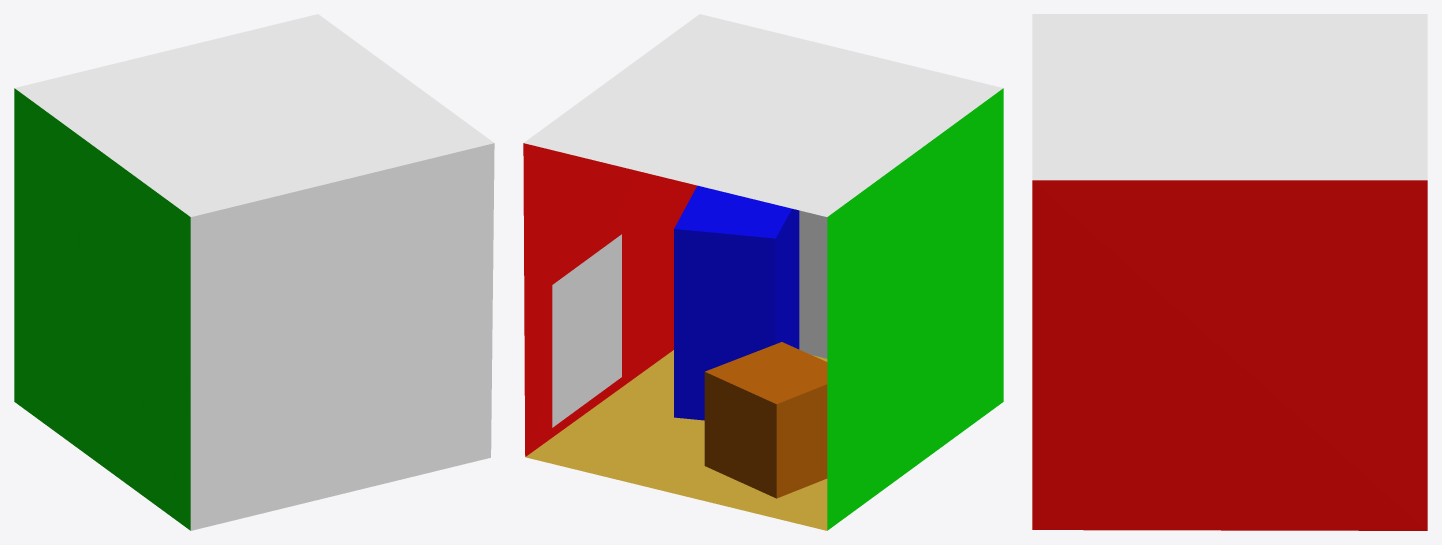
File: cornell_box_VI.obj
The picture shows the model from 3 angles, left to right: view 1: azimuth 30°, elevation 25°; view 2: azimuth 150°, elevation 25°; view 3: azimuth 270°, elevation 25°; orthographic projection. The views are drawn at different scales.
Parts seen in each view (by area): view 1: back_wall, green_wall, ceiling; view 2: green_wall, ceiling, red_wall, tall_block, floor, short_block, mirror, back_wall; view 3: red_wall, ceiling.
Part boxes in pixels (x1,y1,x2,y2): back_wall: (190, 143, 494, 530); green_wall: (14, 88, 190, 530); ceiling: (14, 14, 493, 216); green_wall: (827, 88, 1003, 530); ceiling: (524, 14, 1003, 216); red_wall: (523, 143, 696, 456); tall_block: (674, 185, 799, 420); floor: (525, 350, 827, 530); short_block: (704, 342, 827, 498); mirror: (552, 234, 621, 427); back_wall: (799, 210, 827, 358); red_wall: (1032, 180, 1427, 530); ceiling: (1032, 14, 1427, 180).
Bounding box in the file's own units: 556 × 549 × 559.
